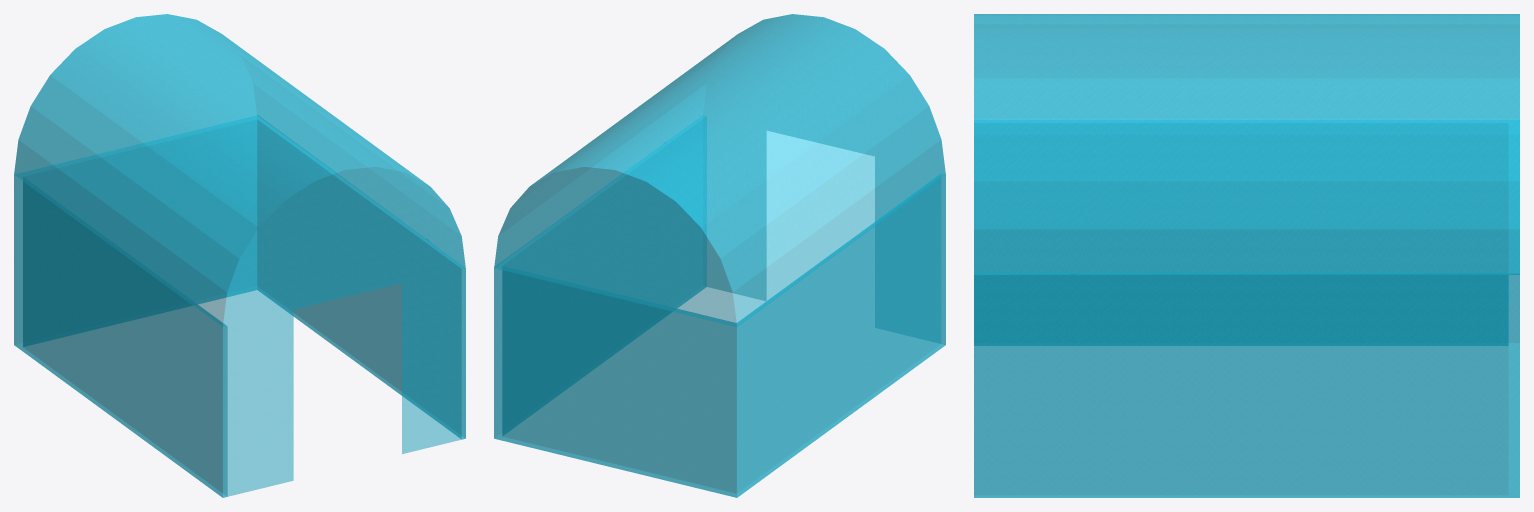
The model's file is greenhouse.fbx.
3 renders of one model, left to right at view 1: azimuth 30°, elevation 25°; view 2: azimuth 150°, elevation 25°; view 3: azimuth 270°, elevation 25°, orthographic. The views are drawn at different scales.
Parts seen in each view (by area): view 1: Model; view 2: Model; view 3: Model.
Boxes of the visible parts, x1,y1,x2,y2 form: Model: (14,14,465,497); Model: (494,14,945,497); Model: (974,14,1519,497).
Bounding box in the file's own units: 520 × 610 × 774.
